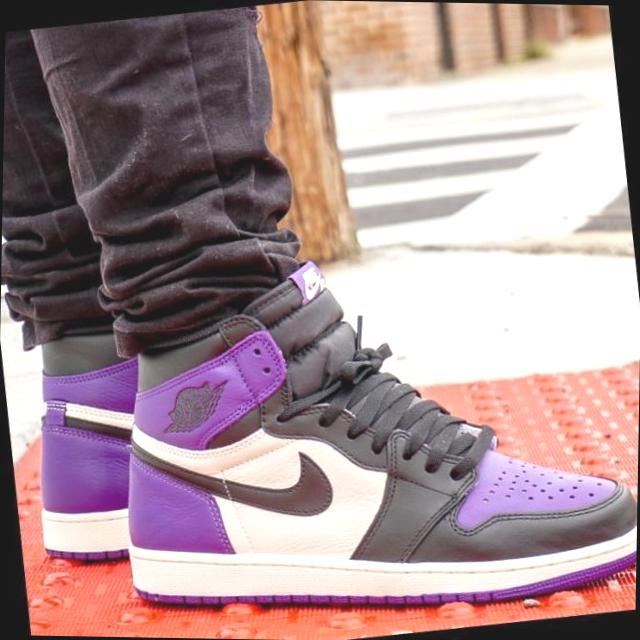nike_original_jordan: (74, 187, 640, 640)
